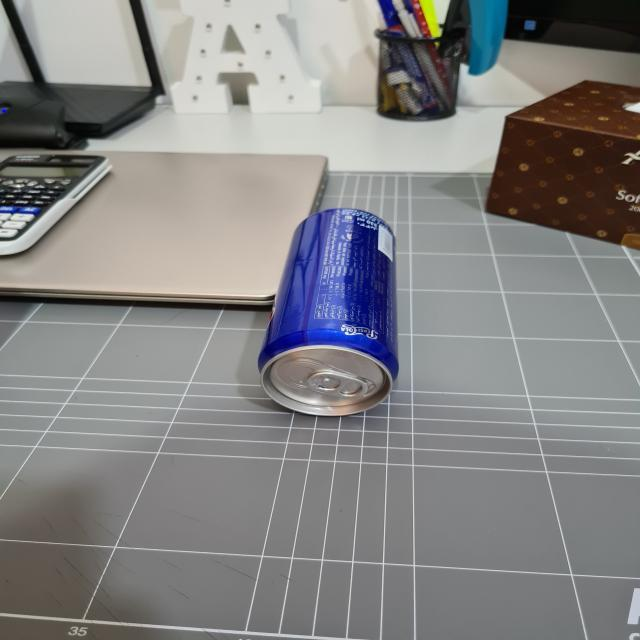can: (256, 204, 406, 422)
